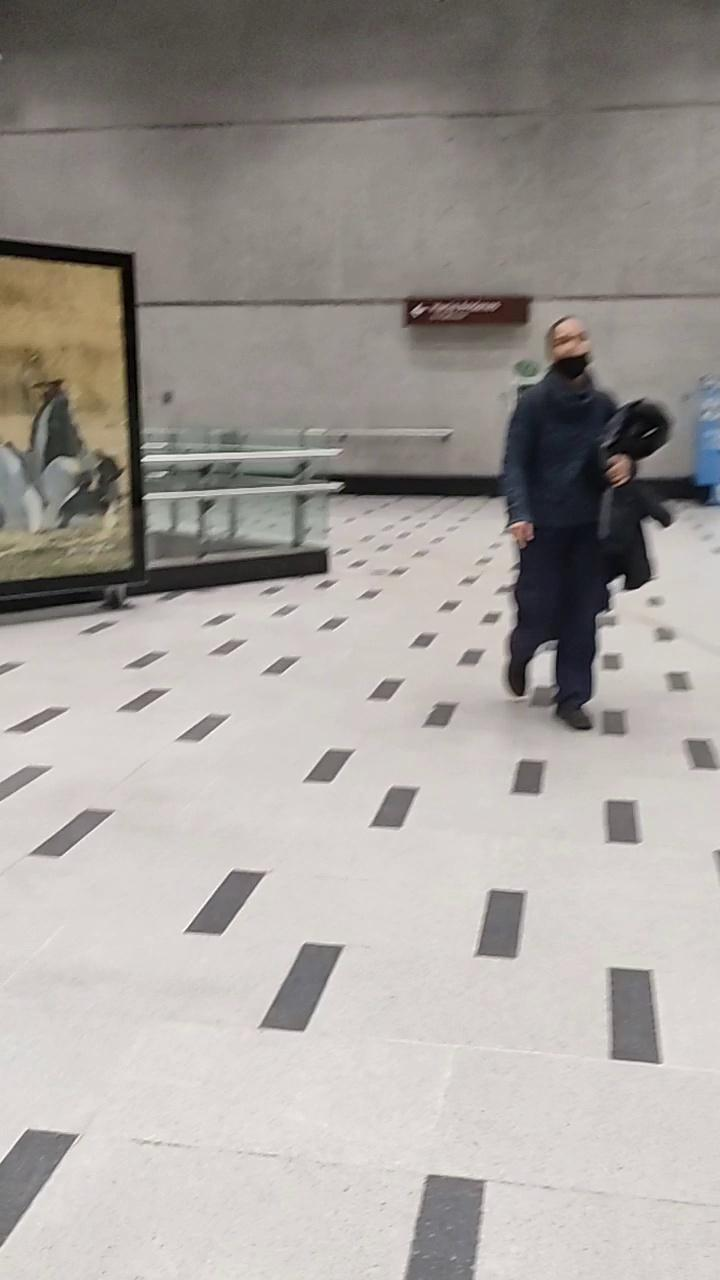left arrow: (410, 302, 431, 322)
